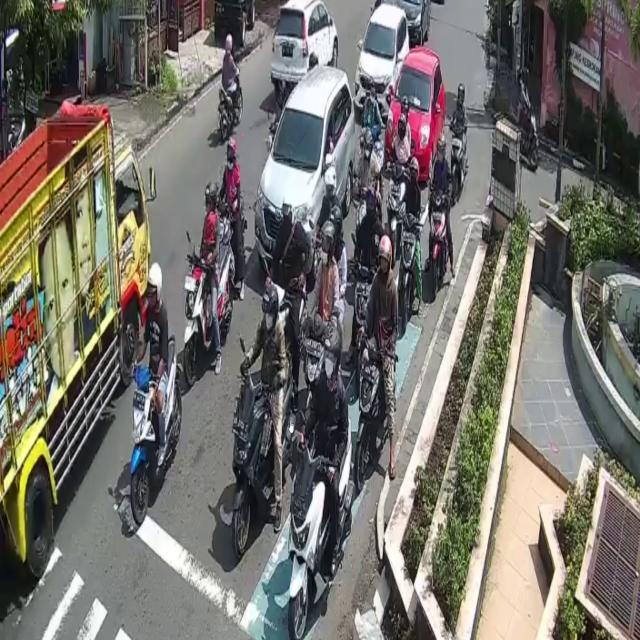bus: (289, 411, 354, 640), (233, 360, 295, 559), (130, 332, 182, 527), (181, 240, 231, 385), (359, 343, 399, 489), (397, 212, 418, 333), (430, 191, 450, 300), (217, 63, 243, 141), (516, 106, 541, 174), (450, 120, 469, 200)
motorcycle: (255, 63, 356, 273), (386, 46, 446, 180), (358, 1, 412, 118), (271, 0, 337, 86), (399, 0, 430, 52)
truck: (0, 98, 150, 582)
